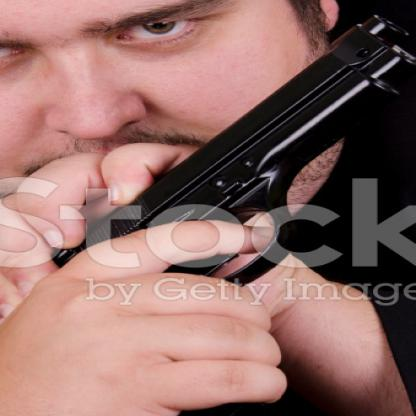gun: (35, 8, 414, 415)
